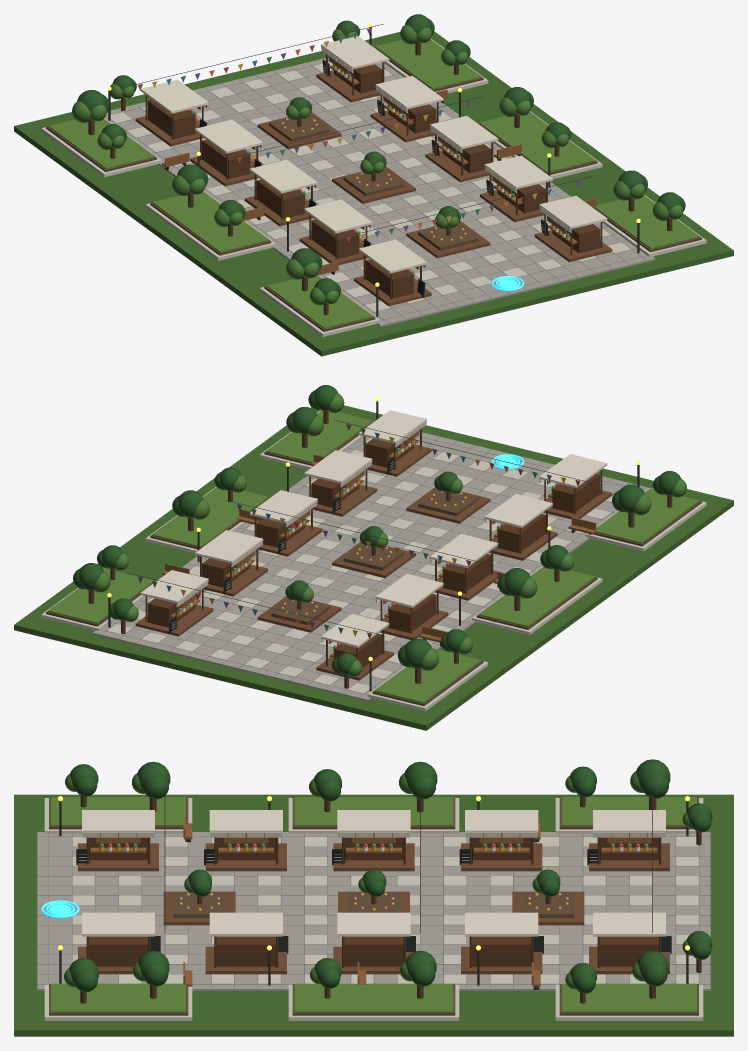
The model's file is club-street-festival-map.glb.
3 renders of one model, top to bottom at view 1: azimuth 30°, elevation 25°; view 2: azimuth 150°, elevation 25°; view 3: azimuth 270°, elevation 25°, orthographic. The views are drawn at different scales.
Parts seen in each view (by area): view 1: Central_Pedestrian_Plaza, Ground_Base, Garden_MW_Grass, Garden_ME_Grass, Garden_SE_Grass, Garden_NE_Grass, Garden_SW_Grass, Garden_NW_Grass, ClubBooth_L2_CanvasRoof, ClubBooth_L3_CanvasRoof, ClubBooth_L4_CanvasRoof, ClubBooth_L5_CanvasRoof (+47 smaller); view 2: Central_Pedestrian_Plaza, Ground_Base, Garden_MW_Grass, Garden_ME_Grass, Garden_NW_Grass, Garden_SW_Grass, Garden_SE_Grass, Garden_NE_Grass, ClubBooth_L2_CanvasRoof, ClubBooth_L4_CanvasRoof, ClubBooth_L5_CanvasRoof, ClubBooth_L1_CanvasRoof (+47 smaller); view 3: Central_Pedestrian_Plaza, Ground_Base, Garden_ME_Grass, Garden_SE_Grass, Garden_NE_Grass, Garden_MW_Grass, Garden_SW_Grass, Garden_NW_Grass, ClubBooth_R3_CanvasRoof, ClubBooth_R2_CanvasRoof, ClubBooth_R4_CanvasRoof, ClubBooth_R3_Cabin (+59 smaller).
Part boxes in pixels (x1,y1,x2,y2): Central_Pedestrian_Plaza: (104,57,655,326); Ground_Base: (14,31,733,356); Garden_MW_Grass: (152,192,268,252); Garden_ME_Grass: (479,112,595,172); Garden_SE_Grass: (594,196,699,249); Garden_NE_Grass: (375,39,481,89); Garden_SW_Grass: (266,275,372,328); Garden_NW_Grass: (48,119,154,169); ClubBooth_L2_CanvasRoof: (195,119,263,153); ClubBooth_L3_CanvasRoof: (249,159,317,193); ClubBooth_L4_CanvasRoof: (304,199,372,233); ClubBooth_L5_CanvasRoof: (358,239,426,273); Central_Pedestrian_Plaza: (92,431,653,701); Ground_Base: (14,405,733,730); Garden_MW_Grass: (479,567,595,626); Garden_ME_Grass: (152,487,268,547); Garden_NW_Grass: (375,648,481,703); Garden_SW_Grass: (595,488,699,543); Garden_SE_Grass: (266,410,372,462); Garden_NE_Grass: (48,568,154,623); ClubBooth_L2_CanvasRoof: (375,574,443,607); ClubBooth_L4_CanvasRoof: (484,494,552,527); ClubBooth_L5_CanvasRoof: (539,454,607,487); ClubBooth_L1_CanvasRoof: (321,613,389,647); Central_Pedestrian_Plaza: (37,832,710,990); Ground_Base: (14,794,733,1036); Garden_ME_Grass: (294,983,453,1012); Garden_SE_Grass: (51,983,185,1012); Garden_NE_Grass: (562,983,696,1012); Garden_MW_Grass: (294,797,453,825); Garden_SW_Grass: (51,797,185,825); Garden_NW_Grass: (562,797,696,825); ClubBooth_R3_CanvasRoof: (337,912,410,936); ClubBooth_R2_CanvasRoof: (465,912,538,936); ClubBooth_R4_CanvasRoof: (209,912,282,936); ClubBooth_R3_Cabin: (344,936,403,966).
Bounding box in the file's own units: 48 × 6.12 × 62.
